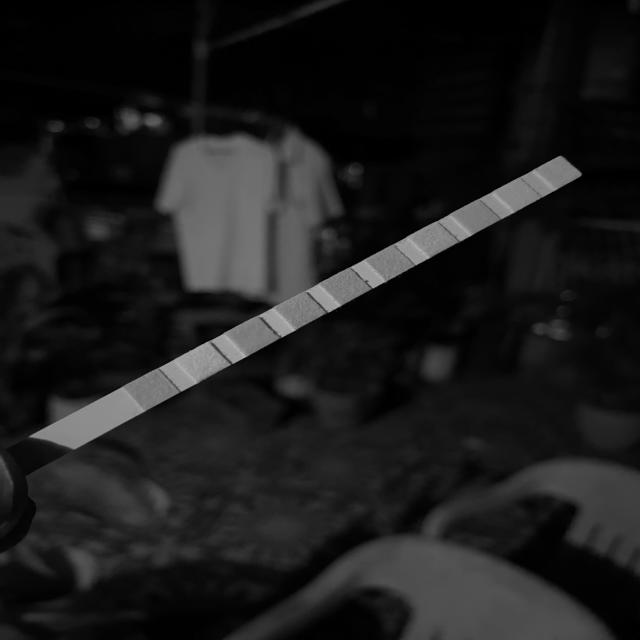Bilirubin: (191, 351, 216, 373)
Blood: (331, 276, 359, 297)
Glucose: (140, 378, 167, 400)
Ketone: (237, 326, 267, 345)
Leukocytes: (544, 164, 570, 182)
Nitrite: (504, 186, 529, 204)
Protein: (419, 230, 447, 248)
SpGravity: (288, 301, 314, 320)
Urobilinogen: (460, 209, 490, 226)
background: (0, 0, 640, 640)
pH: (375, 254, 404, 272)
strip: (8, 156, 583, 475)
